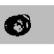correct: (4, 12, 33, 39)
